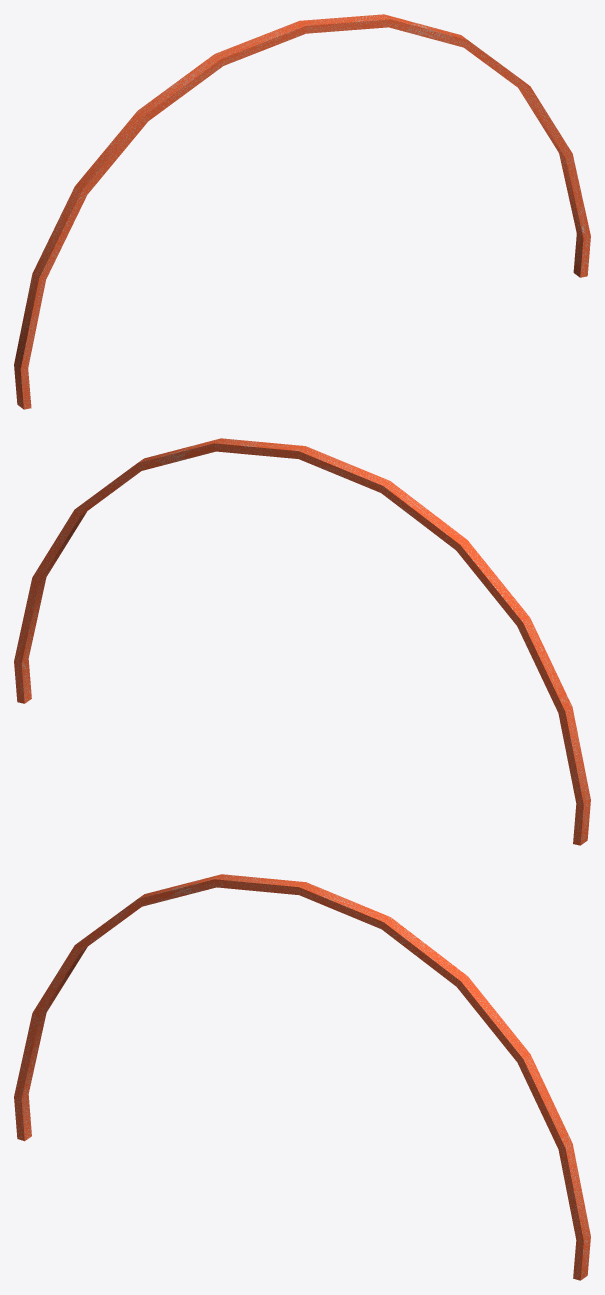
The model's file is original-4.obj.
3 views of the same model, one above another, from view 1: azimuth 30°, elevation 25°; view 2: azimuth 150°, elevation 25°; view 3: azimuth 330°, elevation 25° (orthographic).
Parts seen in each view (by area): view 1: mesh4/mesh4-geometry#mesh4-geometry; view 2: mesh4/mesh4-geometry#mesh4-geometry; view 3: mesh4/mesh4-geometry#mesh4-geometry.
Boxes of the visible parts, x1,y1,x2,y2 form: mesh4/mesh4-geometry#mesh4-geometry: (14, 14, 590, 409); mesh4/mesh4-geometry#mesh4-geometry: (14, 438, 590, 845); mesh4/mesh4-geometry#mesh4-geometry: (14, 874, 590, 1280).
Bounding box in the file's own units: 1.26 × 0.6752 × 0.0465.
